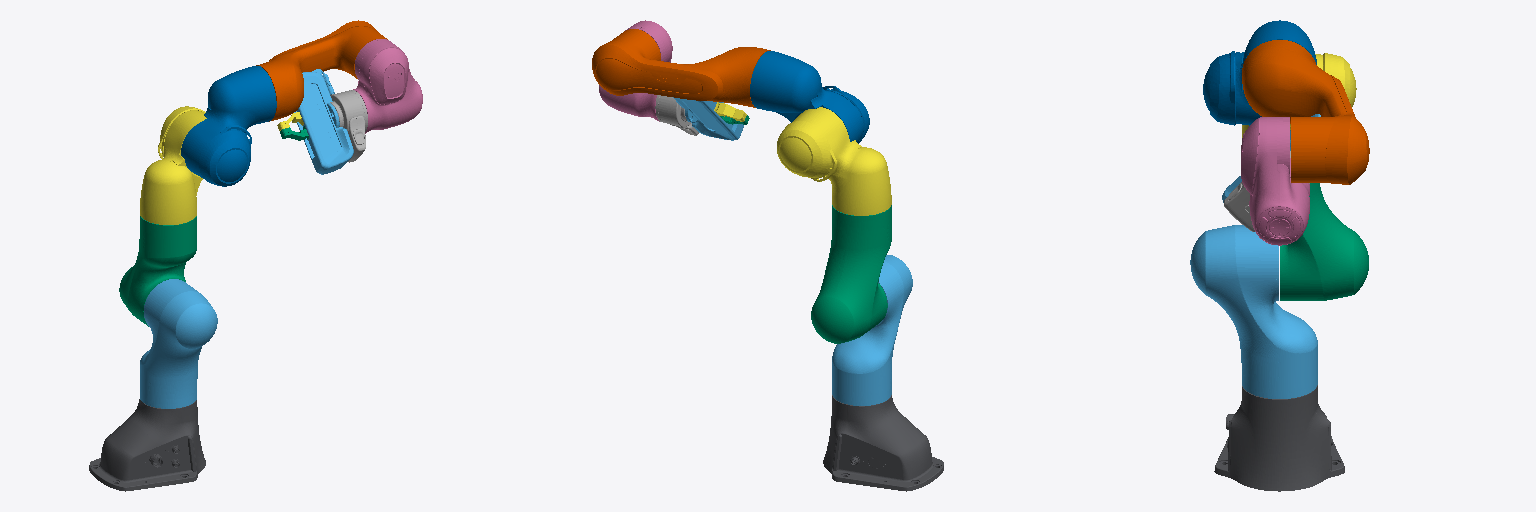
robot.urdf — panda:
<?xml version="1.0" ?>
<!-- =================================================================================== -->
<!-- |    This document was autogenerated by xacro from panda_arm_hand.urdf.xacro      | -->
<!-- |    EDITING THIS FILE BY HAND IS NOT RECOMMENDED                                 | -->
<!-- =================================================================================== -->
<robot name="panda" xmlns:xacro="http://www.ros.org/wiki/xacro">
  <link name="panda_link0">
    <visual>
      <geometry>
        <mesh filename="package://franka_description/meshes/visual/link0.obj"/>
      </geometry>
      <material name="">
        <color rgba="0.356 0.361 0.376 1"/>
      </material>
    </visual>
    <collision>
      <geometry>
        <mesh filename="package://franka_description/meshes/collision/link0.stl"/>
      </geometry>
    </collision>
  </link>
  <link name="panda_link1">
    <visual>
      <geometry>
        <mesh filename="package://franka_description/meshes/visual/link1.obj"/>
      </geometry>
    </visual>
    <collision>
      <geometry>
        <mesh filename="package://franka_description/meshes/collision/link1.stl"/>
      </geometry>
    </collision>
  </link>
  <joint name="panda_joint1" type="revolute">
    <safety_controller k_position="100.0" k_velocity="40.0" soft_lower_limit="-2.8973" soft_upper_limit="2.8973"/>
    <origin rpy="0 0 0" xyz="0 0 0.333"/>
    <parent link="panda_link0"/>
    <child link="panda_link1"/>
    <axis xyz="0 0 1"/>
    <limit effort="87" lower="-2.8973" upper="2.8973" velocity="2.1750"/>
  </joint>
  <link name="panda_link2">
    <visual>
      <geometry>
        <mesh filename="package://franka_description/meshes/visual/link2.obj"/>
      </geometry>
    </visual>
    <collision>
      <geometry>
        <mesh filename="package://franka_description/meshes/collision/link2.stl"/>
      </geometry>
    </collision>
  </link>
  <joint name="panda_joint2" type="revolute">
    <safety_controller k_position="100.0" k_velocity="40.0" soft_lower_limit="-1.7628" soft_upper_limit="1.7628"/>
    <origin rpy="-1.57079632679 0 0" xyz="0 0 0"/>
    <parent link="panda_link1"/>
    <child link="panda_link2"/>
    <axis xyz="0 0 1"/>
    <limit effort="87" lower="-1.7628" upper="1.7628" velocity="2.1750"/>
  </joint>
  <link name="panda_link3">
    <visual>
      <geometry>
        <mesh filename="package://franka_description/meshes/visual/link3.obj"/>
      </geometry>
    </visual>
    <collision>
      <geometry>
        <mesh filename="package://franka_description/meshes/collision/link3.stl"/>
      </geometry>
    </collision>
  </link>
  <joint name="panda_joint3" type="revolute">
    <safety_controller k_position="100.0" k_velocity="40.0" soft_lower_limit="-2.8973" soft_upper_limit="2.8973"/>
    <origin rpy="1.57079632679 0 0" xyz="0 -0.316 0"/>
    <parent link="panda_link2"/>
    <child link="panda_link3"/>
    <axis xyz="0 0 1"/>
    <limit effort="87" lower="-2.8973" upper="2.8973" velocity="2.1750"/>
  </joint>
  <link name="panda_link4">
    <visual>
      <geometry>
        <mesh filename="package://franka_description/meshes/visual/link4.obj"/>
      </geometry>
    </visual>
    <collision>
      <geometry>
        <mesh filename="package://franka_description/meshes/collision/link4.stl"/>
      </geometry>
    </collision>
  </link>
  <joint name="panda_joint4" type="revolute">
    <safety_controller k_position="100.0" k_velocity="40.0" soft_lower_limit="-3.0718" soft_upper_limit="-0.0698"/>
    <origin rpy="1.57079632679 0 0" xyz="0.0825 0 0"/>
    <parent link="panda_link3"/>
    <child link="panda_link4"/>
    <axis xyz="0 0 1"/>
    <limit effort="87" lower="-3.0718" upper="-0.0698" velocity="2.1750"/>
  </joint>
  <link name="panda_link5">
    <visual>
      <geometry>
        <mesh filename="package://franka_description/meshes/visual/link5.obj"/>
      </geometry>
    </visual>
    <collision>
      <geometry>
        <mesh filename="package://franka_description/meshes/collision/link5.stl"/>
      </geometry>
    </collision>
  </link>
  <joint name="panda_joint5" type="revolute">
    <safety_controller k_position="100.0" k_velocity="40.0" soft_lower_limit="-2.8973" soft_upper_limit="2.8973"/>
    <origin rpy="-1.57079632679 0 0" xyz="-0.0825 0.384 0"/>
    <parent link="panda_link4"/>
    <child link="panda_link5"/>
    <axis xyz="0 0 1"/>
    <limit effort="12" lower="-2.8973" upper="2.8973" velocity="2.6100"/>
  </joint>
  <link name="panda_link6">
    <visual>
      <geometry>
        <mesh filename="package://franka_description/meshes/visual/link6.obj"/>
      </geometry>
    </visual>
    <collision>
      <geometry>
        <mesh filename="package://franka_description/meshes/collision/link6.stl"/>
      </geometry>
    </collision>
  </link>
  <joint name="panda_joint6" type="revolute">
    <safety_controller k_position="100.0" k_velocity="40.0" soft_lower_limit="-0.0175" soft_upper_limit="3.7525"/>
    <origin rpy="1.57079632679 0 0" xyz="0 0 0"/>
    <parent link="panda_link5"/>
    <child link="panda_link6"/>
    <axis xyz="0 0 1"/>
    <limit effort="12" lower="-0.0175" upper="3.7525" velocity="2.6100"/>
  </joint>
  <link name="panda_link7">
    <visual>
      <geometry>
        <mesh filename="package://franka_description/meshes/visual/link7.obj"/>
      </geometry>
    </visual>
    <collision>
      <geometry>
        <mesh filename="package://franka_description/meshes/collision/link7.stl"/>
      </geometry>
    </collision>
  </link>
  <joint name="panda_joint7" type="revolute">
    <safety_controller k_position="100.0" k_velocity="40.0" soft_lower_limit="-2.8973" soft_upper_limit="2.8973"/>
    <origin rpy="1.57079632679 0 0" xyz="0.088 0 0"/>
    <parent link="panda_link6"/>
    <child link="panda_link7"/>
    <axis xyz="0 0 1"/>
    <limit effort="12" lower="-2.8973" upper="2.8973" velocity="2.6100"/>
  </joint>
  <link name="panda_link8"/>
  <joint name="panda_joint8" type="fixed">
    <origin rpy="0 0 0" xyz="0 0 0.107"/>
    <parent link="panda_link7"/>
    <child link="panda_link8"/>
    <axis xyz="0 0 0"/>
  </joint>
  <joint name="panda_hand_joint" type="fixed">
    <parent link="panda_link8"/>
    <child link="panda_hand"/>
    <origin rpy="0 0 -0.785398163397" xyz="0 0 0"/>
  </joint>
  <link name="panda_hand">
    <visual>
      <geometry>
        <mesh filename="package://franka_description/meshes/visual/hand.obj"/>
      </geometry>
    </visual>
    <collision>
      <geometry>
        <mesh filename="package://franka_description/meshes/collision/hand.stl"/>
      </geometry>
    </collision>
  </link>
  <link name="panda_leftfinger">
    <visual>
      <geometry>
        <mesh filename="package://franka_description/meshes/visual/finger.obj"/>
      </geometry>
    </visual>
    <collision>
      <geometry>
        <mesh filename="package://franka_description/meshes/collision/finger.stl"/>
      </geometry>
    </collision>
  </link>
  <link name="panda_rightfinger">
    <visual>
      <origin rpy="0 0 3.14159265359" xyz="0 0 0"/>
      <geometry>
        <mesh filename="package://franka_description/meshes/visual/finger.obj"/>
      </geometry>
    </visual>
    <collision>
      <origin rpy="0 0 3.14159265359" xyz="0 0 0"/>
      <geometry>
        <mesh filename="package://franka_description/meshes/collision/finger.stl"/>
      </geometry>
    </collision>
  </link>
  <joint name="panda_finger_joint1" type="prismatic">
    <parent link="panda_hand"/>
    <child link="panda_leftfinger"/>
    <origin rpy="0 0 0" xyz="0 0 0.0584"/>
    <axis xyz="0 1 0"/>
    <limit effort="20" lower="0.0" upper="0.04" velocity="0.2"/>
  </joint>
  <joint name="panda_finger_joint2" type="prismatic">
    <parent link="panda_hand"/>
    <child link="panda_rightfinger"/>
    <origin rpy="0 0 0" xyz="0 0 0.0584"/>
    <axis xyz="0 -1 0"/>
    <limit effort="20" lower="0.0" upper="0.04" velocity="0.2"/>
    <mimic joint="panda_finger_joint1"/>
  </joint>
  <link name="tool_link"/>
  <joint name="tool_joint" type="fixed">
    <origin rpy="0 0 2.35619449019" xyz="0.0 0 0.1"/>
    <axis xyz="0 0 1"/>
    <parent link="panda_link8"/>
    <child link="tool_link"/>
  </joint>
</robot>

--- What the picture shows (computed from the rendered views, not written in the file) ---
The picture shows the robot from 3 angles, left to right: view 1: azimuth 30°, elevation 25°; view 2: azimuth 150°, elevation 25°; view 3: azimuth 270°, elevation 25°; orthographic projection.
Robot: panda — 13 links, 12 joints (7 revolute, 2 prismatic, 3 fixed); root link panda_link0; default pose: all joints at 0 but 1 set to mid-range because 0 is outside their limits (panda_joint4 = -1.57).
Links seen in each view (by area): view 1: panda_link0, panda_link1, panda_link4, panda_link3, panda_link5, panda_link6, panda_link2, panda_hand, panda_link7; view 2: panda_link0, panda_link5, panda_link2, panda_link3, panda_link1, panda_link4, panda_link6, panda_hand, panda_link7; view 3: panda_link1, panda_link5, panda_link0, panda_link2, panda_link6, panda_link4, panda_link3, panda_link7.
Boxes of the visible links, x1,y1,x2,y2 form: panda_link0: (89,399,205,491); panda_link1: (140,279,217,408); panda_link4: (181,66,276,186); panda_link3: (140,106,206,224); panda_link5: (256,20,387,121); panda_link6: (353,39,422,133); panda_link2: (119,216,196,326); panda_hand: (294,69,353,174); panda_link7: (330,90,367,162); panda_link0: (823,395,943,491); panda_link5: (592,29,770,107); panda_link2: (811,205,891,343); panda_link3: (777,107,891,215); panda_link1: (832,255,912,405); panda_link4: (750,51,869,143); panda_link6: (599,20,672,121); panda_hand: (673,97,743,140); panda_link7: (655,95,698,135); panda_link1: (1190,225,1317,398); panda_link5: (1242,40,1369,184); panda_link0: (1214,385,1344,491); panda_link2: (1280,183,1368,300); panda_link6: (1241,117,1309,245); panda_link4: (1203,20,1316,125); panda_link3: (1242,53,1356,137); panda_link7: (1224,151,1309,231).
Size in the robot's own frame: 0.7022 by 0.2593 by 0.7865 metres.
11 mesh visuals loaded from 10 distinct referenced files (10 OBJ).